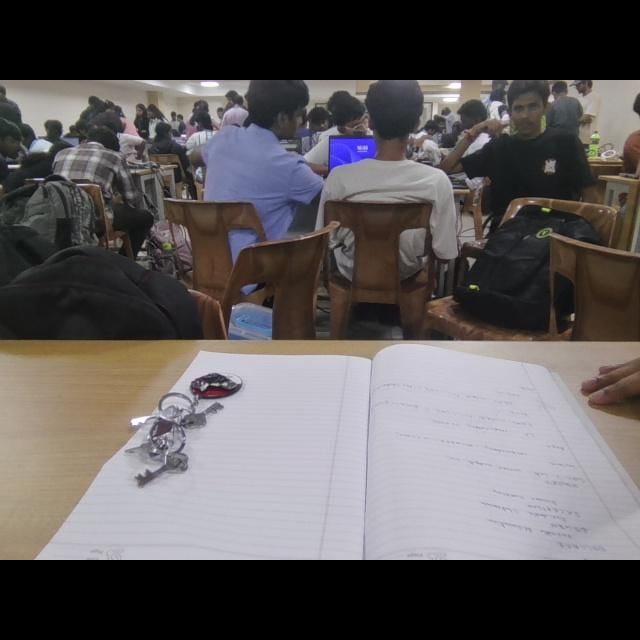keys: (128, 368, 258, 490)
